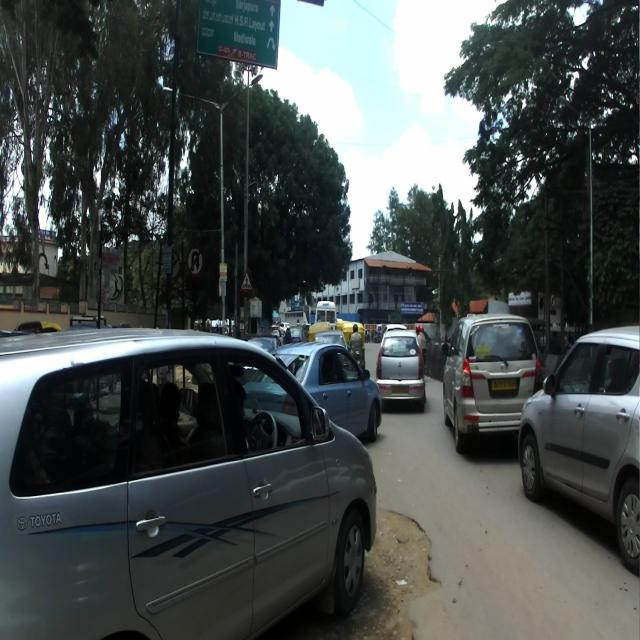Car_Maruti-Suzuki: (518, 322, 640, 574)
Car_TATA: (376, 328, 428, 413)
Car_Toyota: (0, 326, 376, 639), (440, 312, 543, 454)
